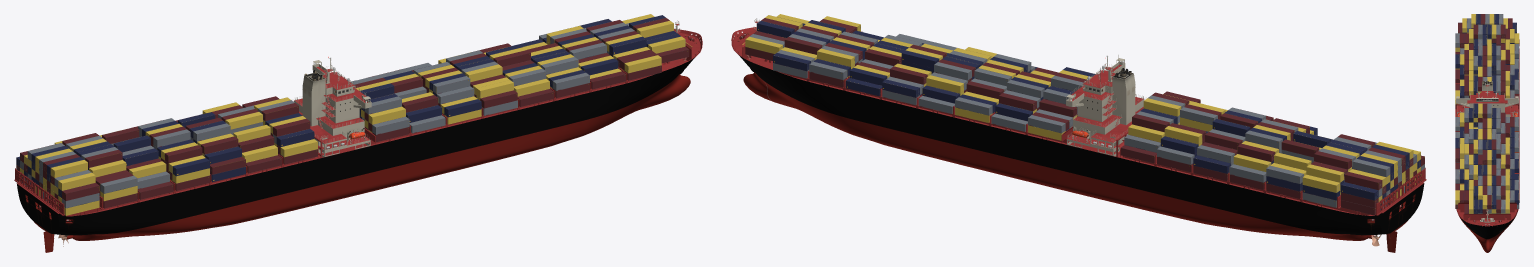
Rendered from container_ship_rm02_nobrand.glb.
3 renders of one model, left to right at view 1: azimuth 30°, elevation 25°; view 2: azimuth 150°, elevation 25°; view 3: azimuth 270°, elevation 25°, orthographic. The views are drawn at different scales.
Parts seen in each view (by area): view 1: Containers, Ship; view 2: Containers, Ship; view 3: Containers, Ship.
Boxes of the visible parts, left/top/right/bottom form: Containers: left=16, top=14, right=689, bottom=215; Ship: left=14, top=20, right=702, bottom=252; Containers: left=745, top=14, right=1424, bottom=215; Ship: left=731, top=18, right=1426, bottom=252; Containers: left=1455, top=14, right=1519, bottom=217; Ship: left=1455, top=39, right=1519, bottom=252.
Size of the model in its own units: 91.25 by 16.9 by 12.87.
3 materials, 3 textured.
